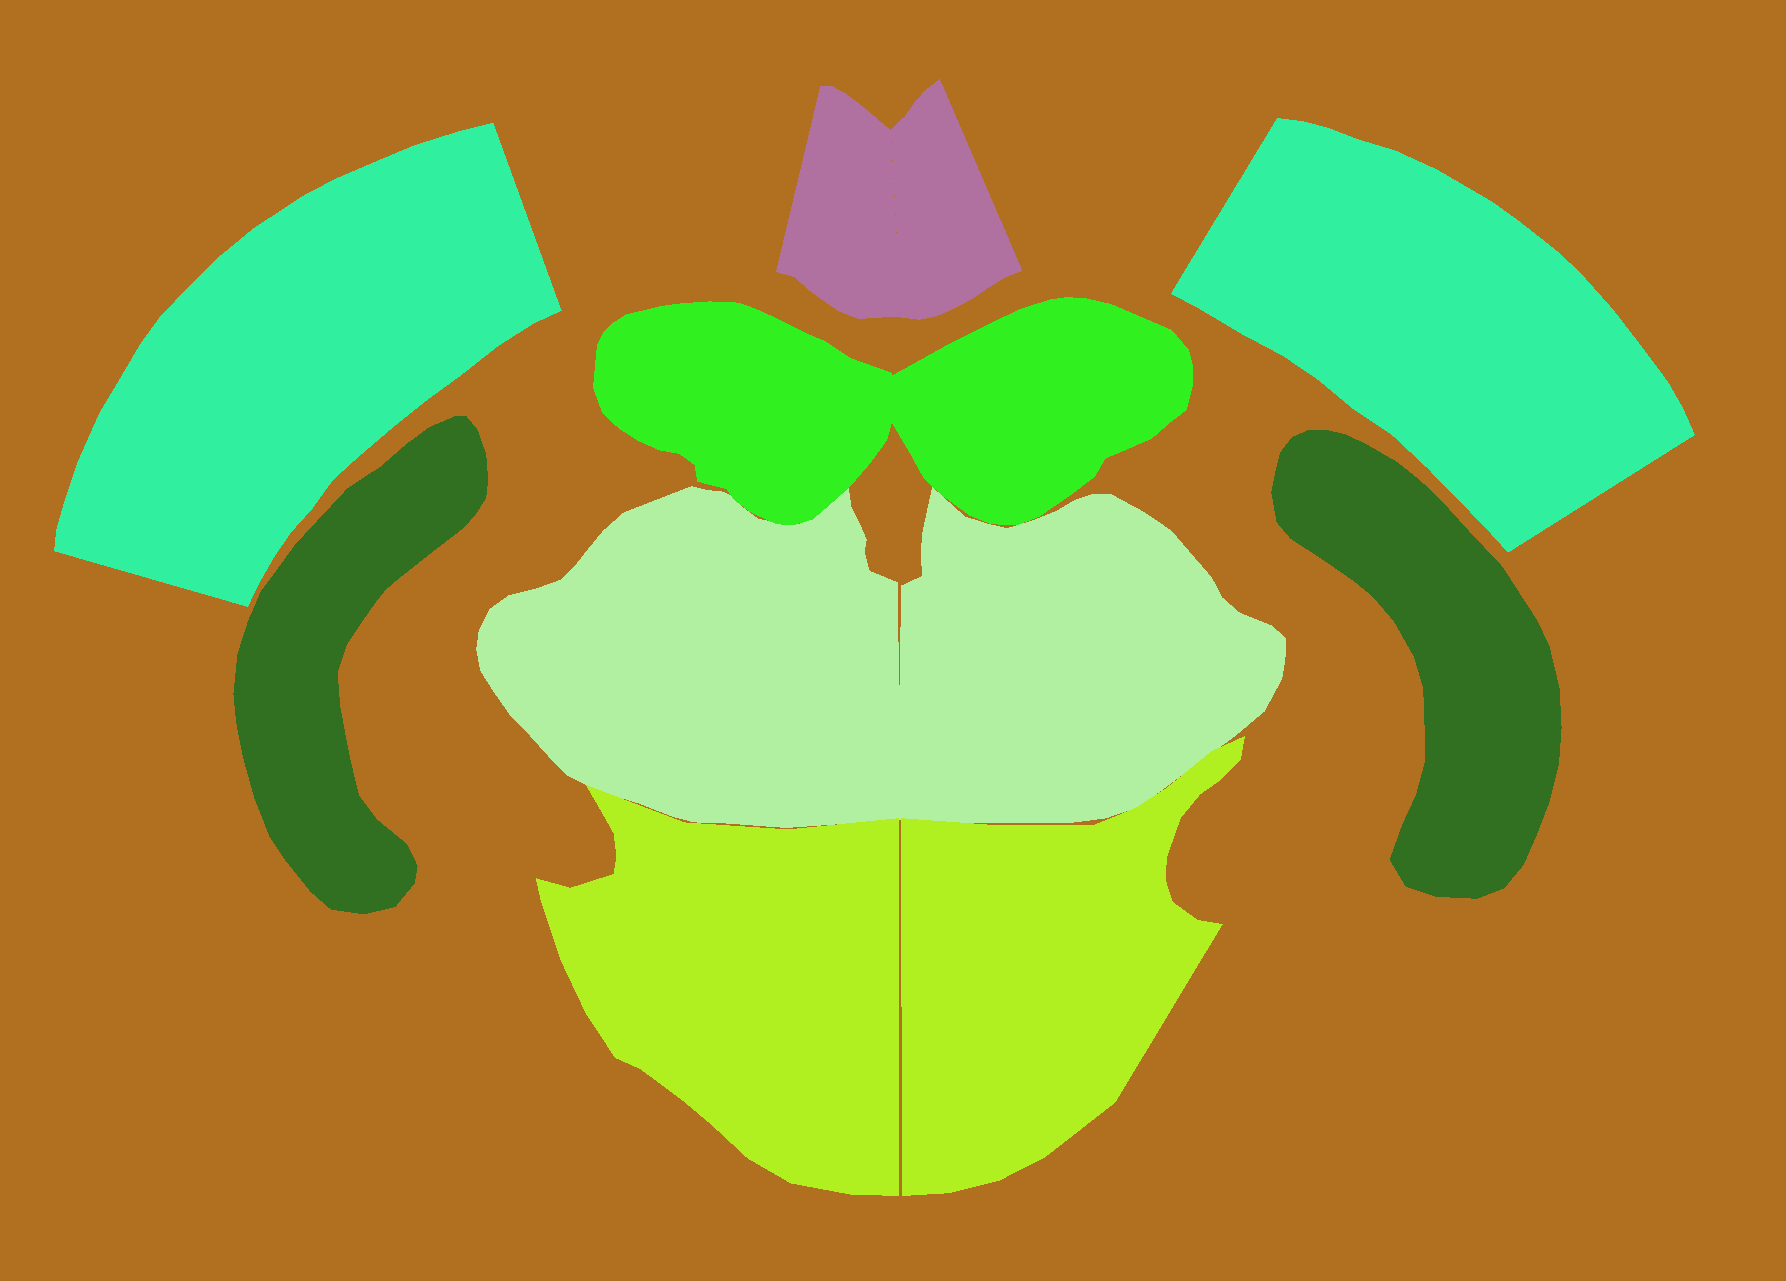Cerebral nuclei: (1272, 430, 1561, 898), (233, 416, 488, 914)
Hippocampal formation: (892, 297, 1193, 525), (593, 301, 893, 525)
Hypothalamus: (901, 736, 1245, 1196), (537, 785, 900, 1196)
Retrosplenial area: (892, 79, 1023, 320), (777, 86, 901, 319)
Somatosensory area: (54, 123, 562, 607), (1170, 118, 1694, 553)
Thalamus: (476, 487, 899, 828), (897, 487, 1285, 824)
